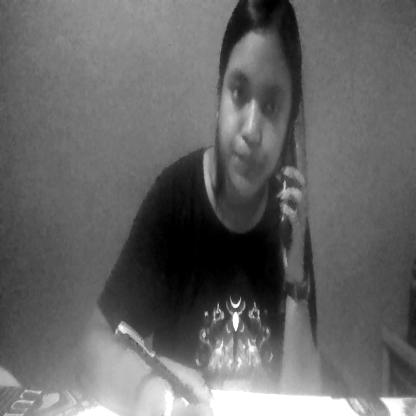Normal: (221, 7, 304, 202)
